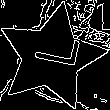L_W: (23, 37, 79, 77)
